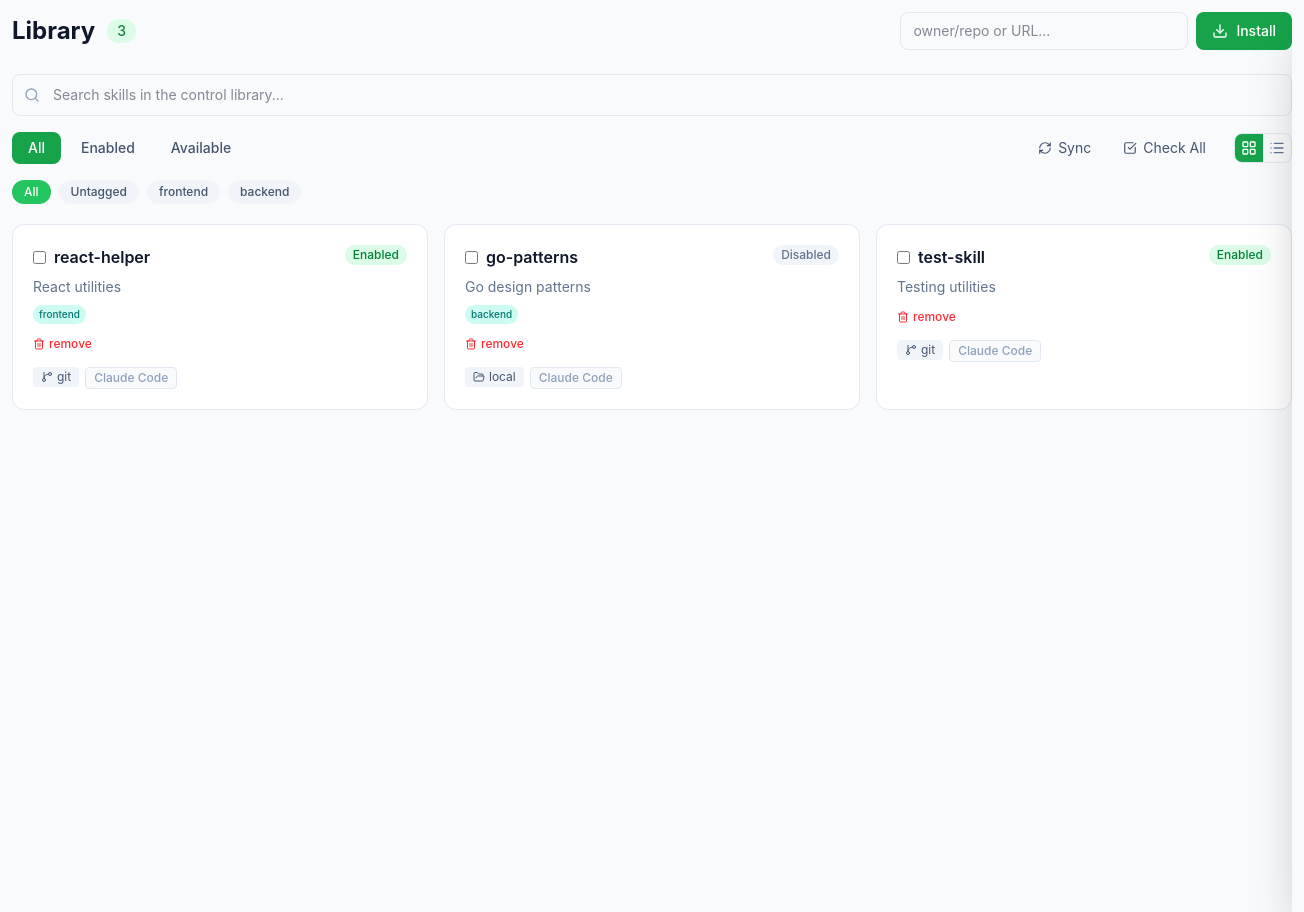
Test: SkillsLibrary › filters by Available tab
Check: the heading "go-patterns" is shown, box [486,245,578,269]
What coordinates should you click on to do the following:
click the button "Available"
I would click on:
 (201, 148)
Its box is [155,132,247,164].
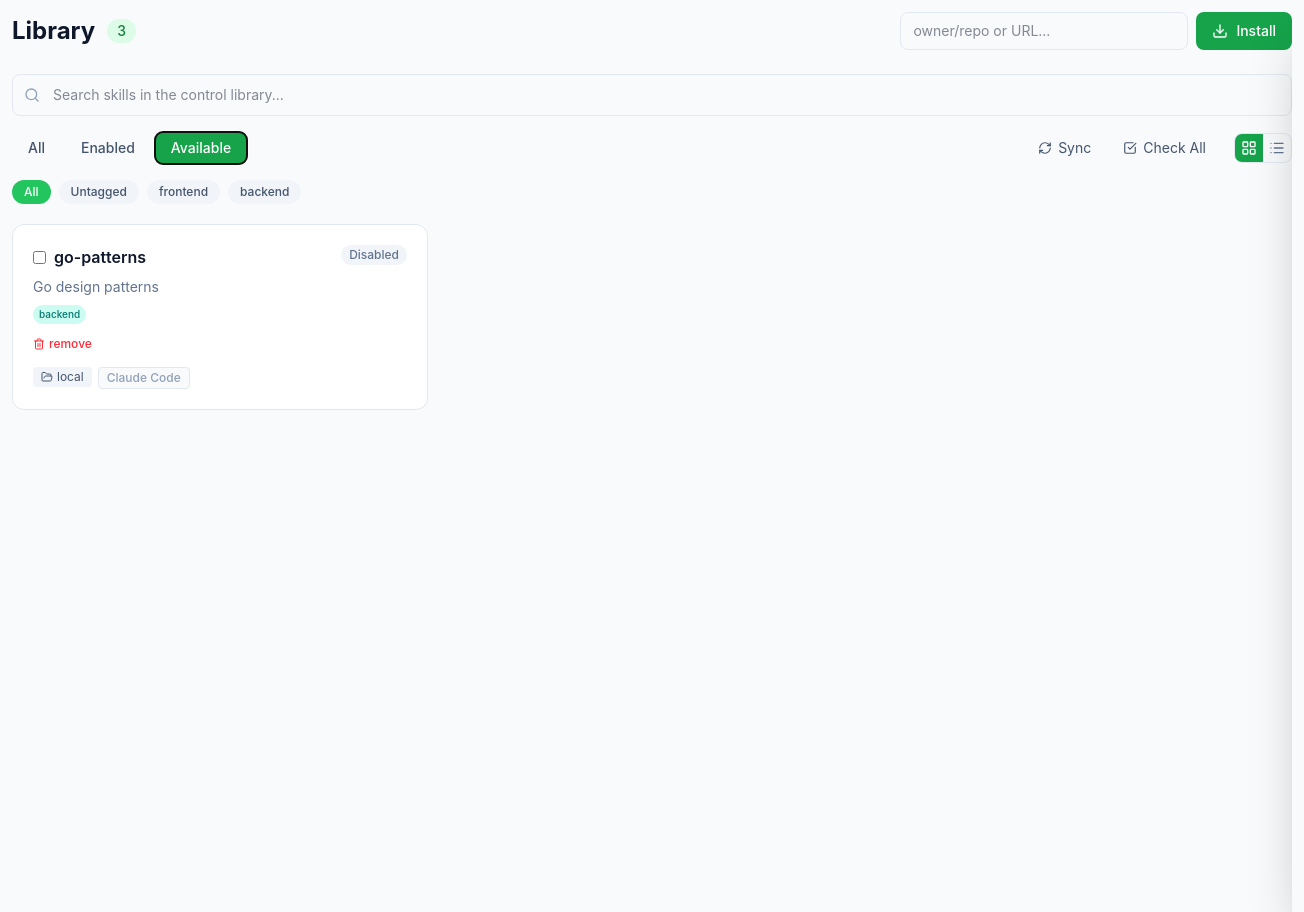
Check: the heading "go-patterns" is shown, box [54,245,146,269]
Check: the heading "react-helper" is gone
